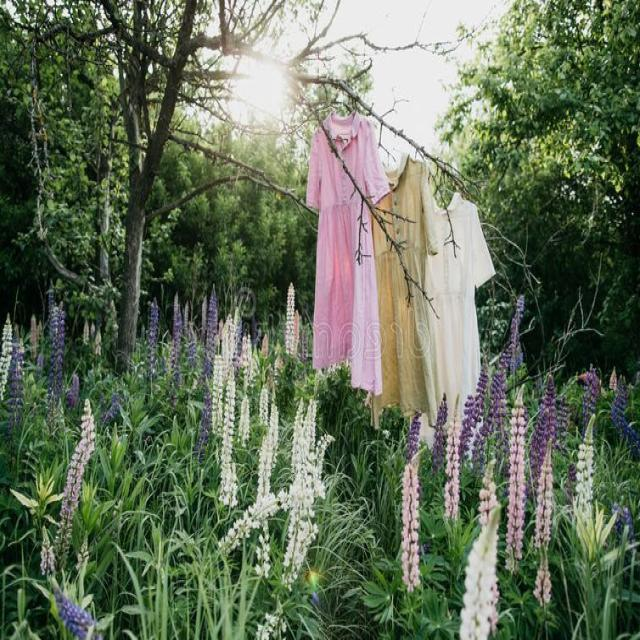clothes: (288, 178, 490, 406)
